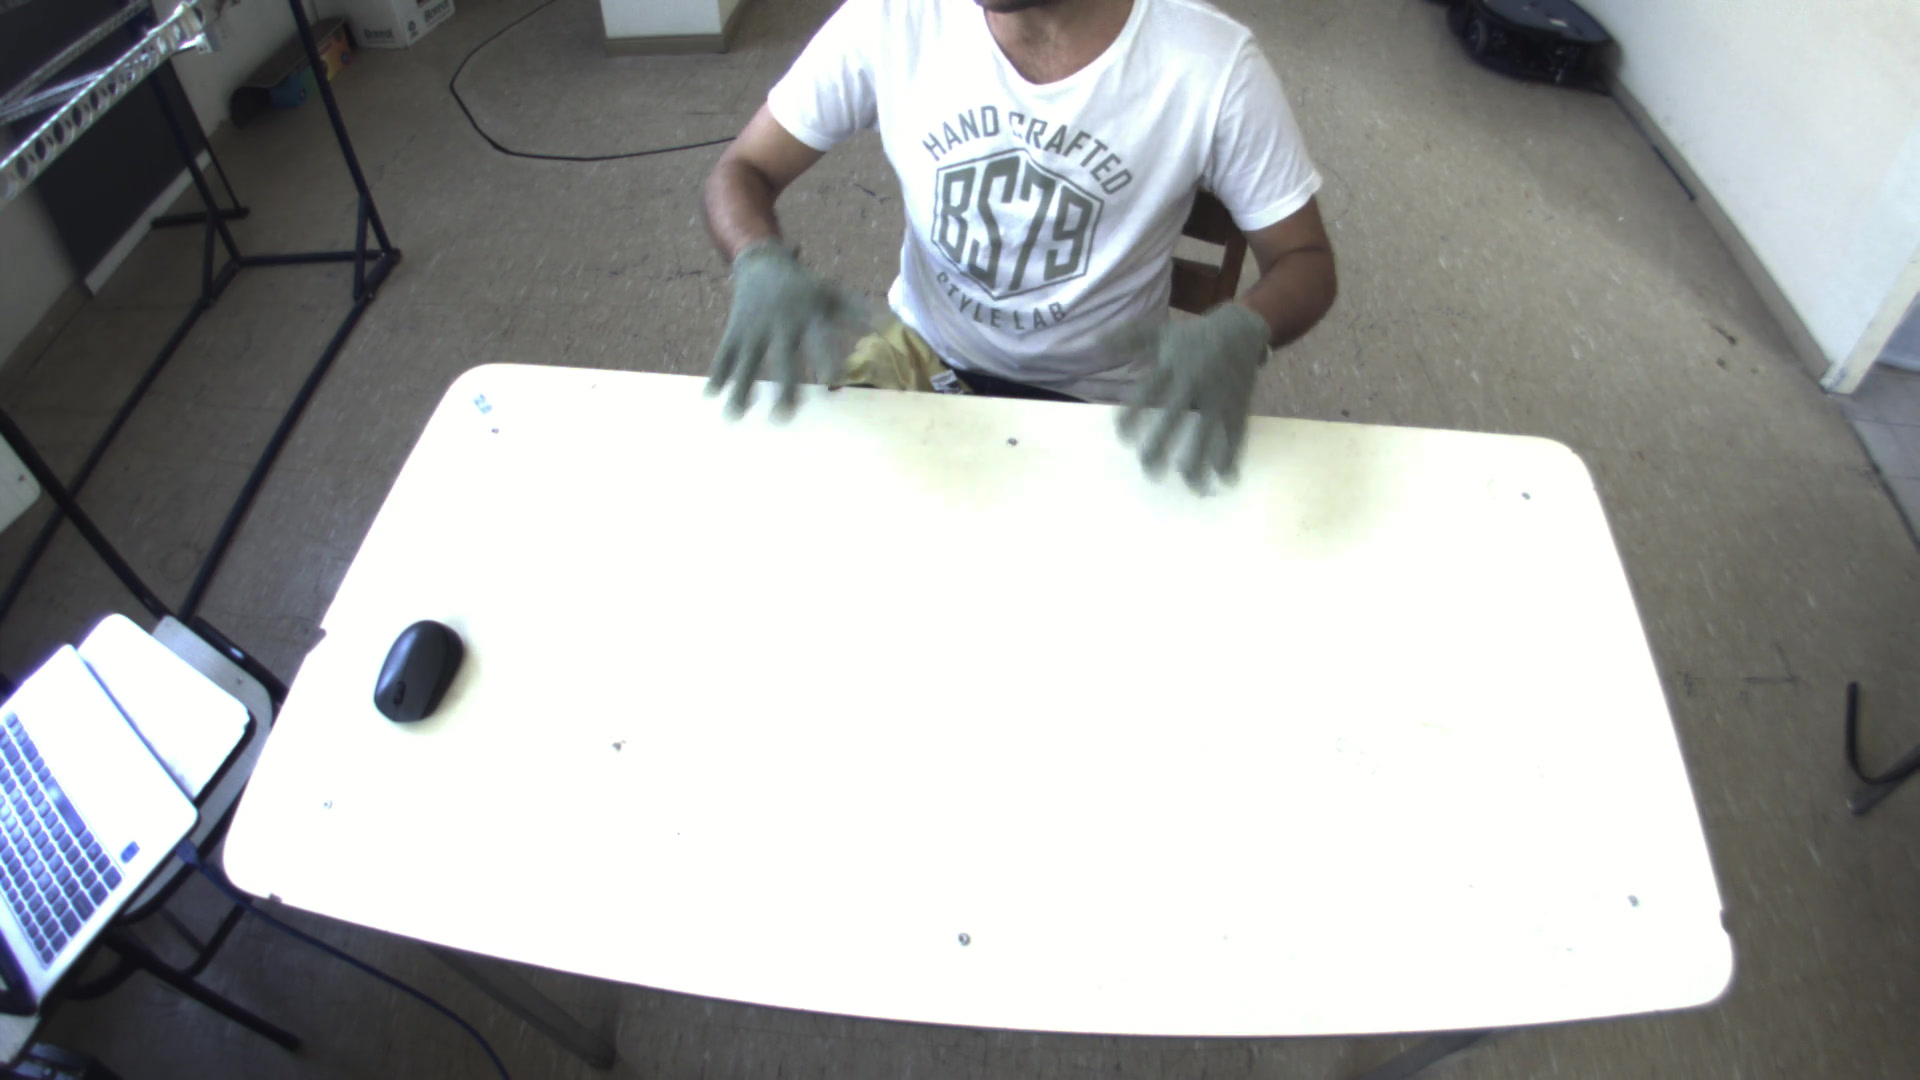hand: (1100, 299, 1288, 505), (673, 232, 862, 411)
